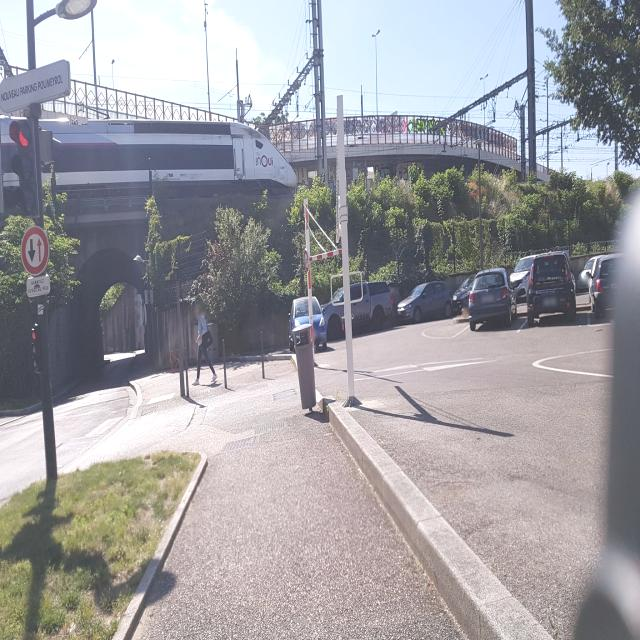car: (321, 277, 395, 342), (527, 249, 577, 327), (468, 267, 515, 331), (395, 280, 453, 322), (289, 295, 325, 349), (590, 252, 616, 320), (510, 253, 537, 318), (452, 276, 477, 316), (578, 257, 596, 295)
